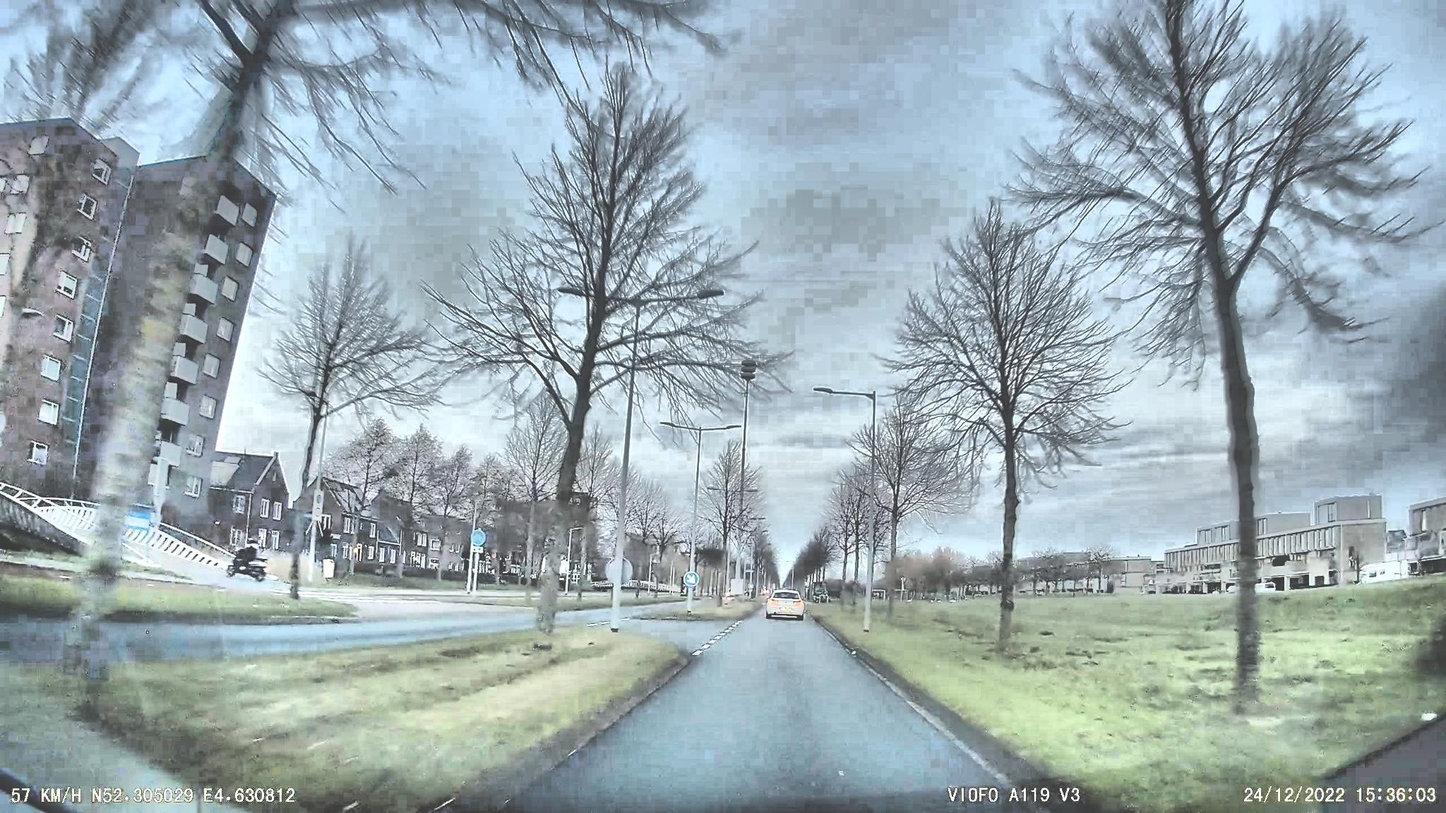Roads: (501, 617, 1099, 813)
